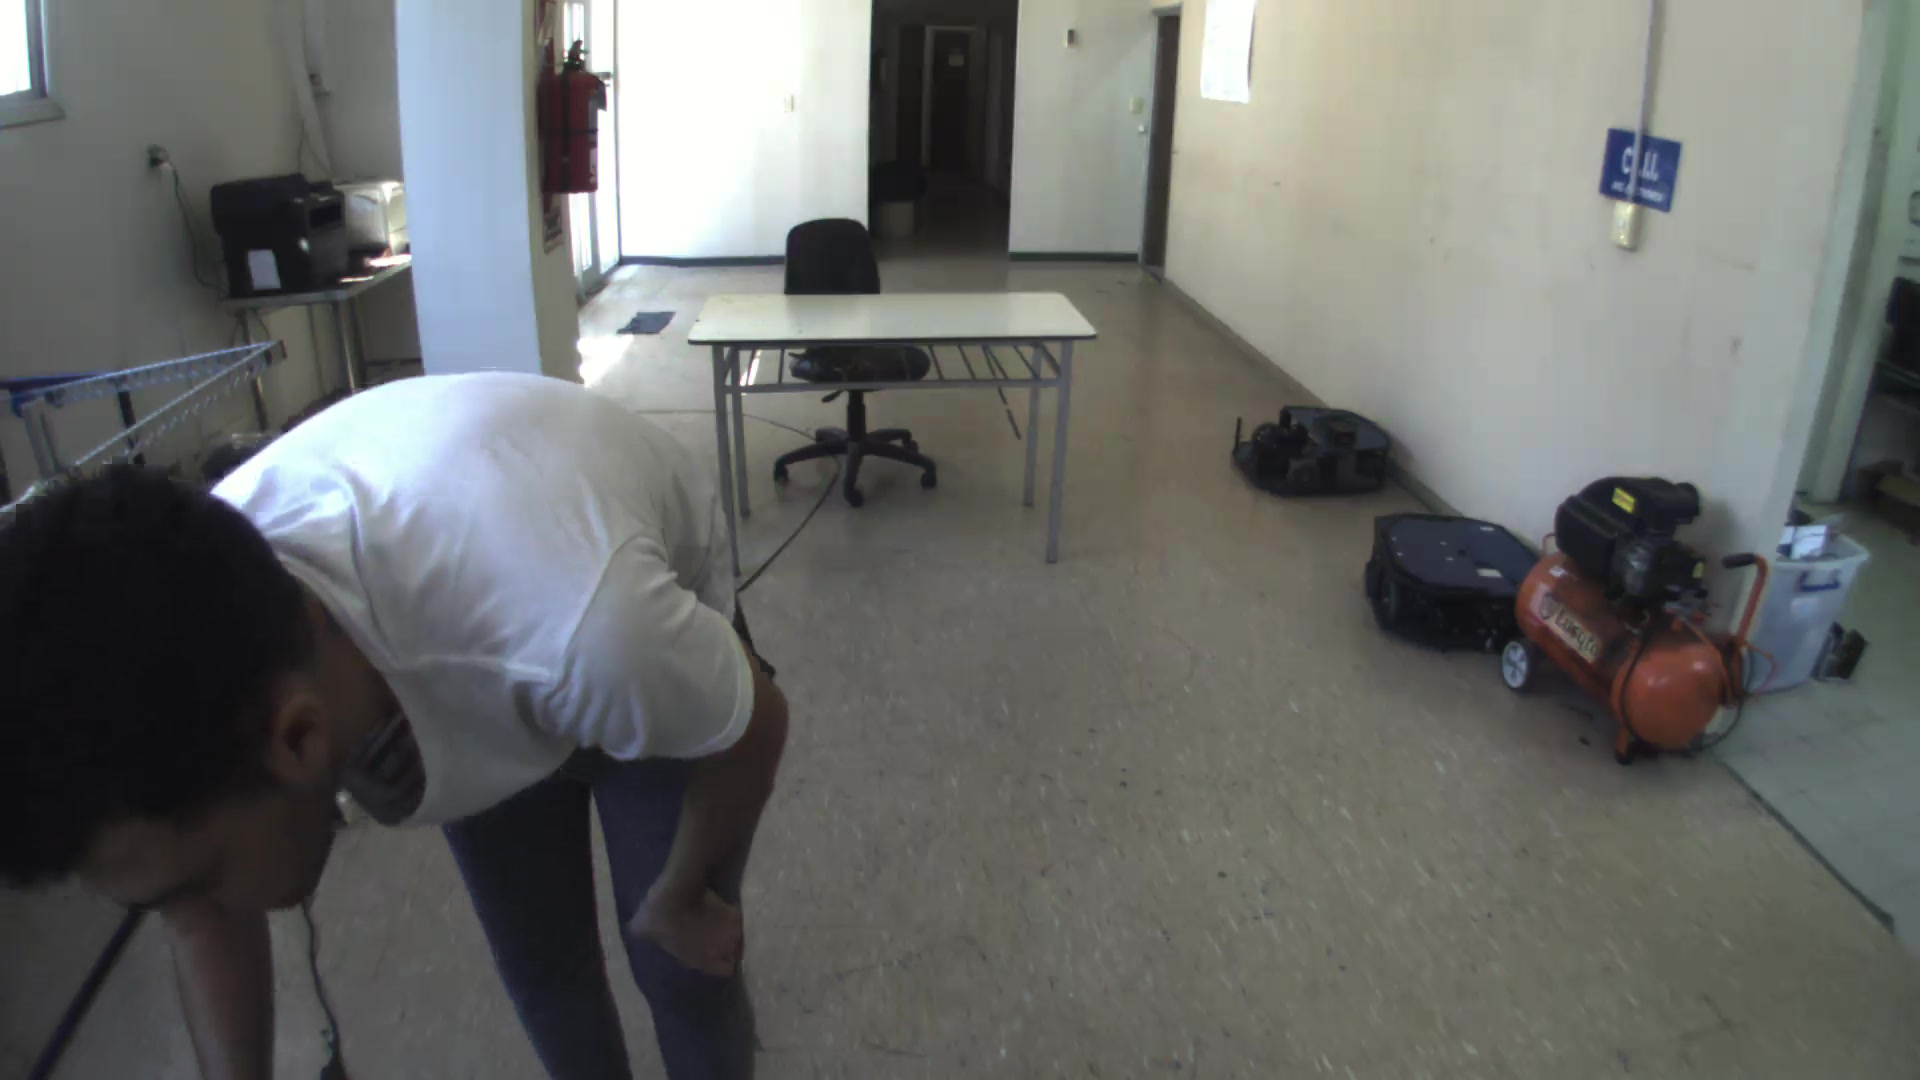hand: (618, 878, 760, 988)
